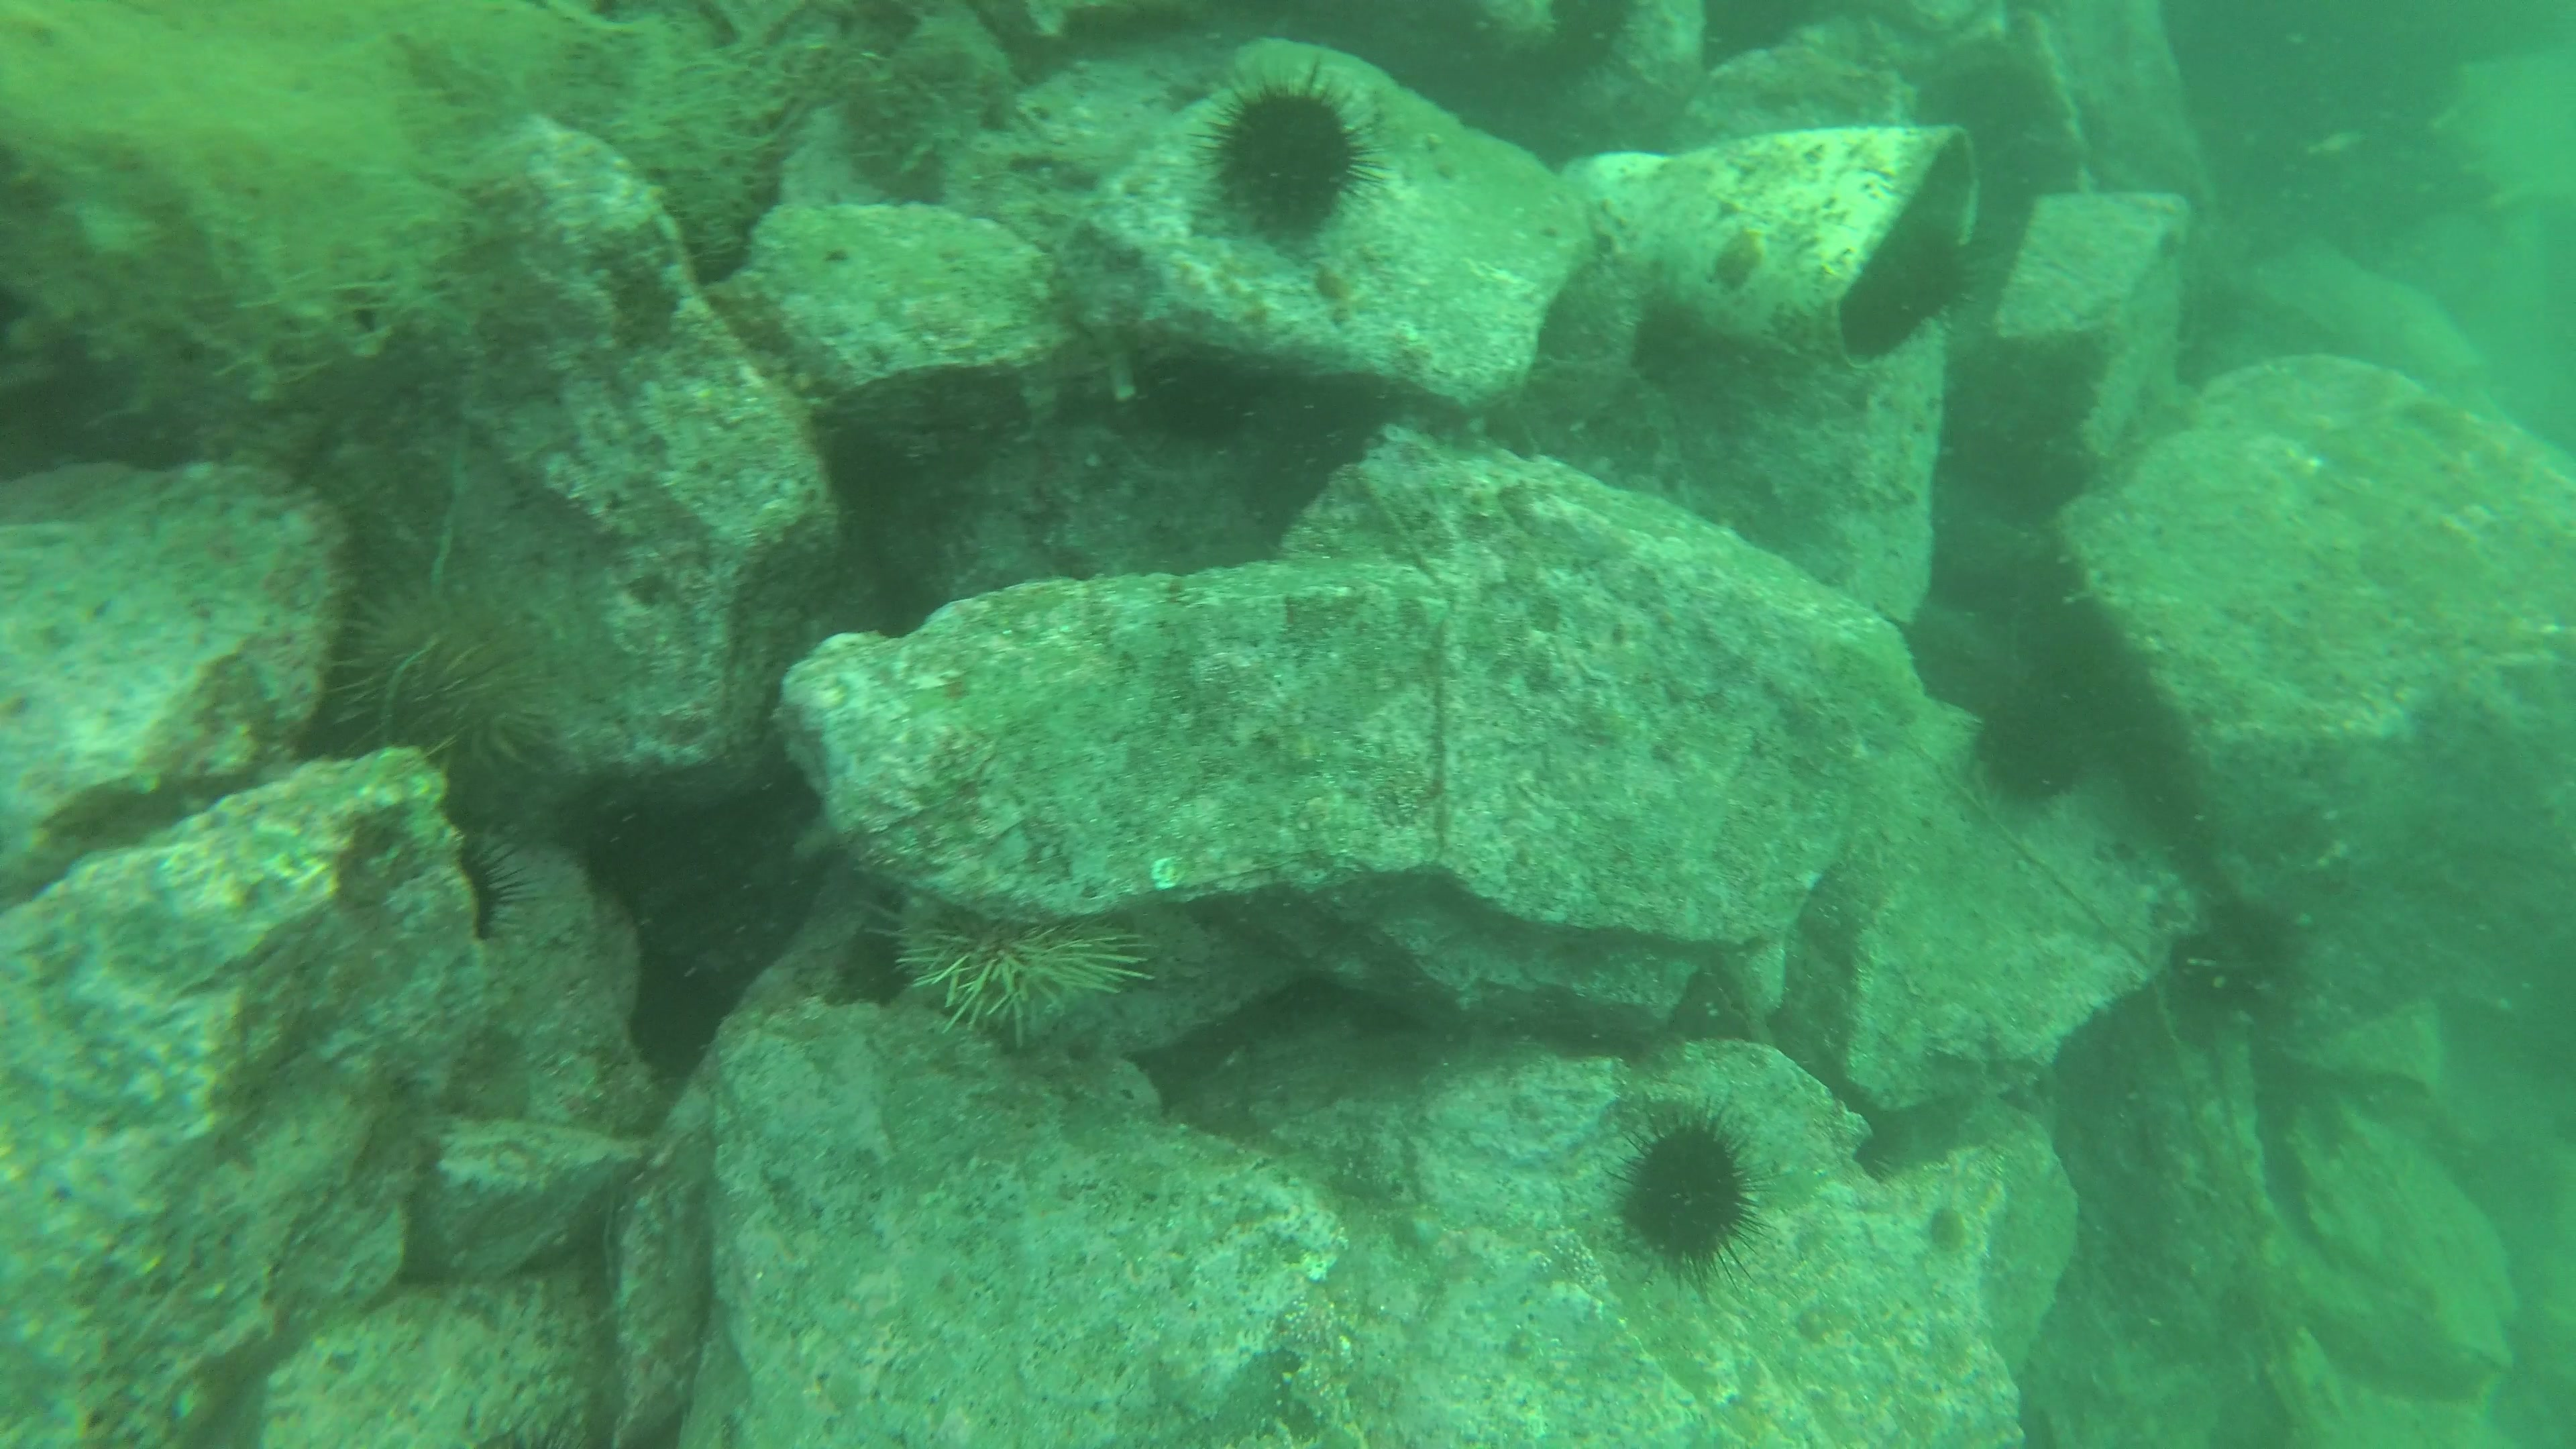echinus: (329, 570, 580, 794), (876, 906, 1171, 1044), (1191, 80, 1403, 248), (1624, 1104, 1760, 1269), (1985, 686, 2107, 819), (428, 832, 540, 950), (1877, 223, 1983, 336)
holothurian: (828, 41, 994, 175)
